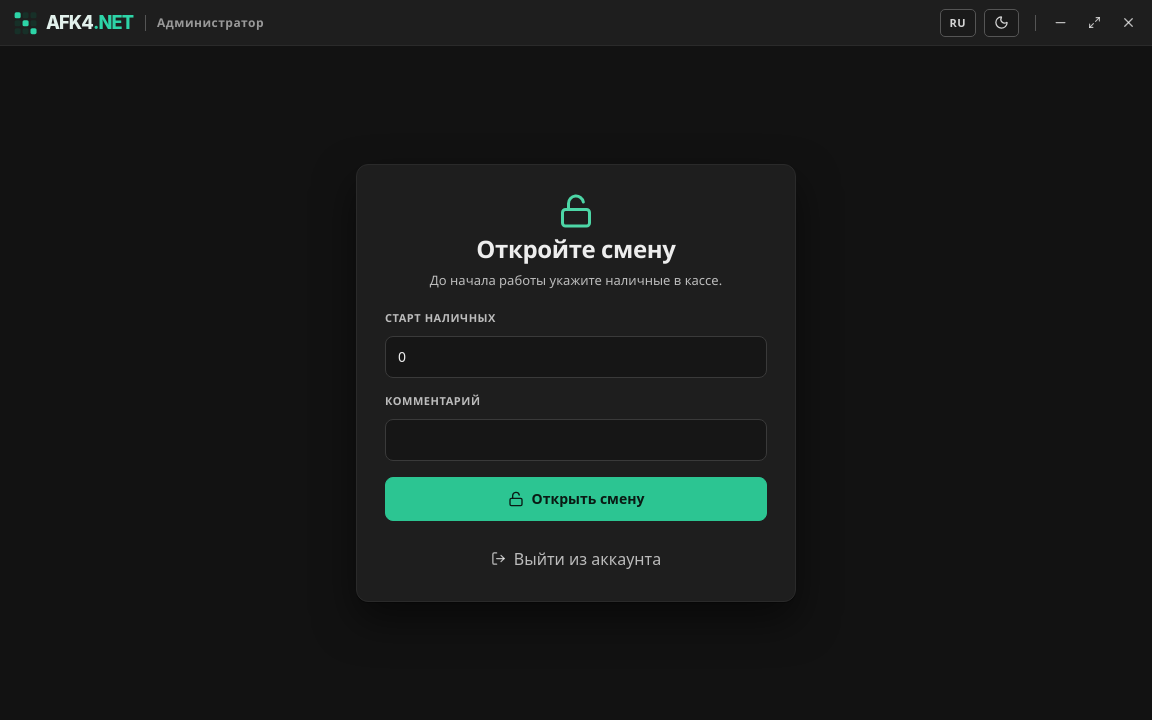
Test: PostAuthShiftGate › rejects malformed or negative starting cash locally
Replace the text in the field labelled "Старт наличных" with "-1" at [576, 357], box [385,336,767,378]
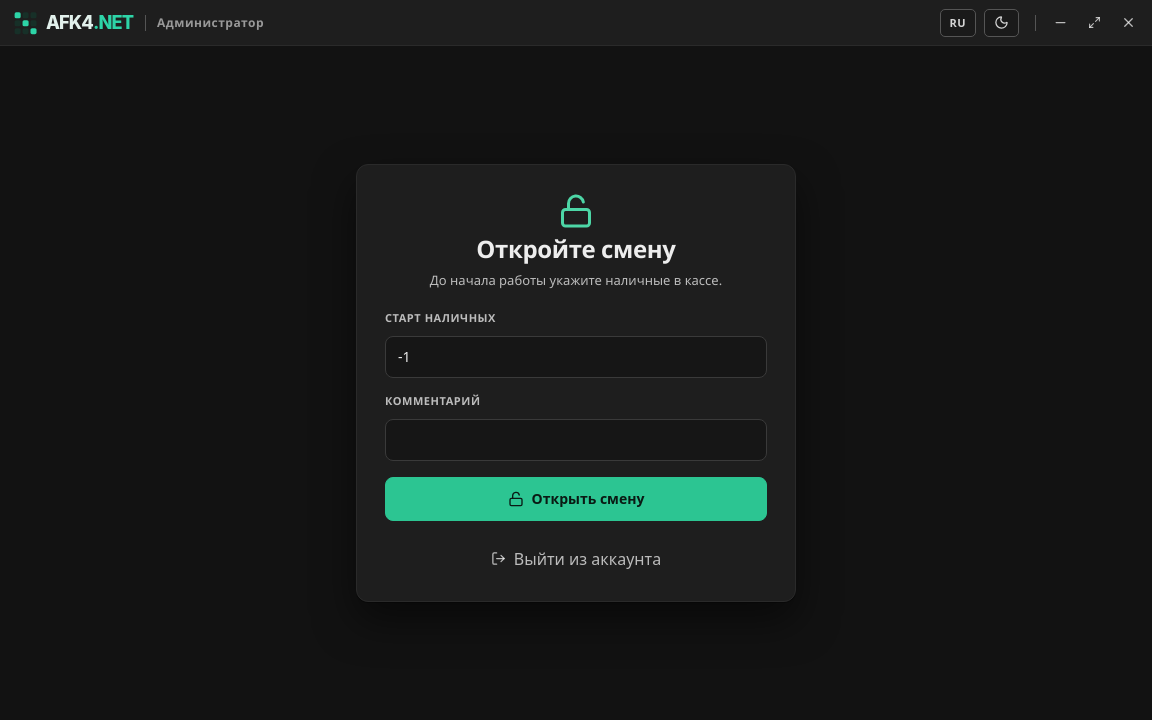
Click the button "Открыть смену".
click(576, 499)  # box [385,477,767,521]
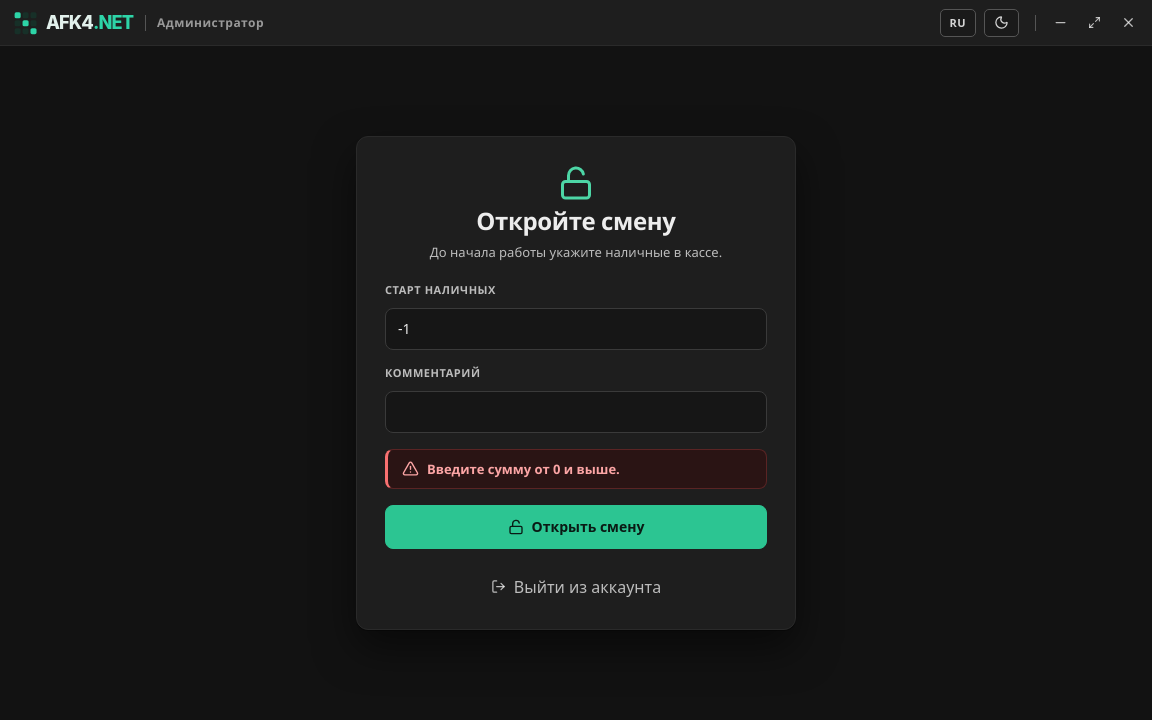
Now the message reads "Введите сумму от 0 и выше.", box [427,460,620,478]
